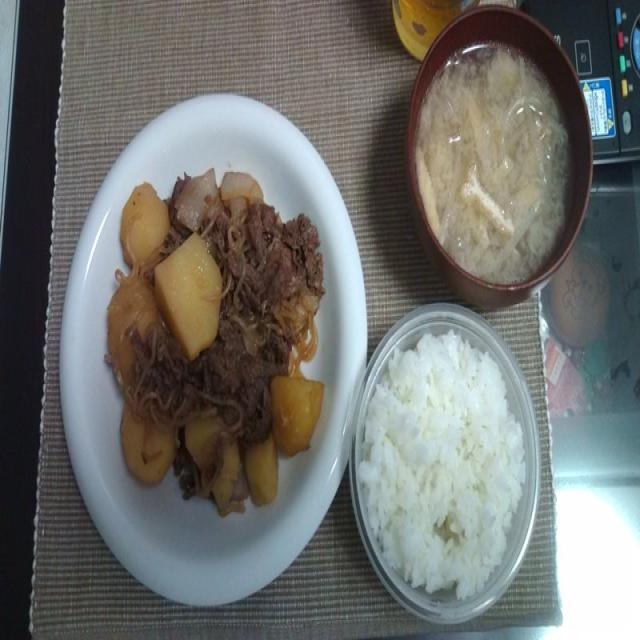Rice: (365, 323, 529, 601)
